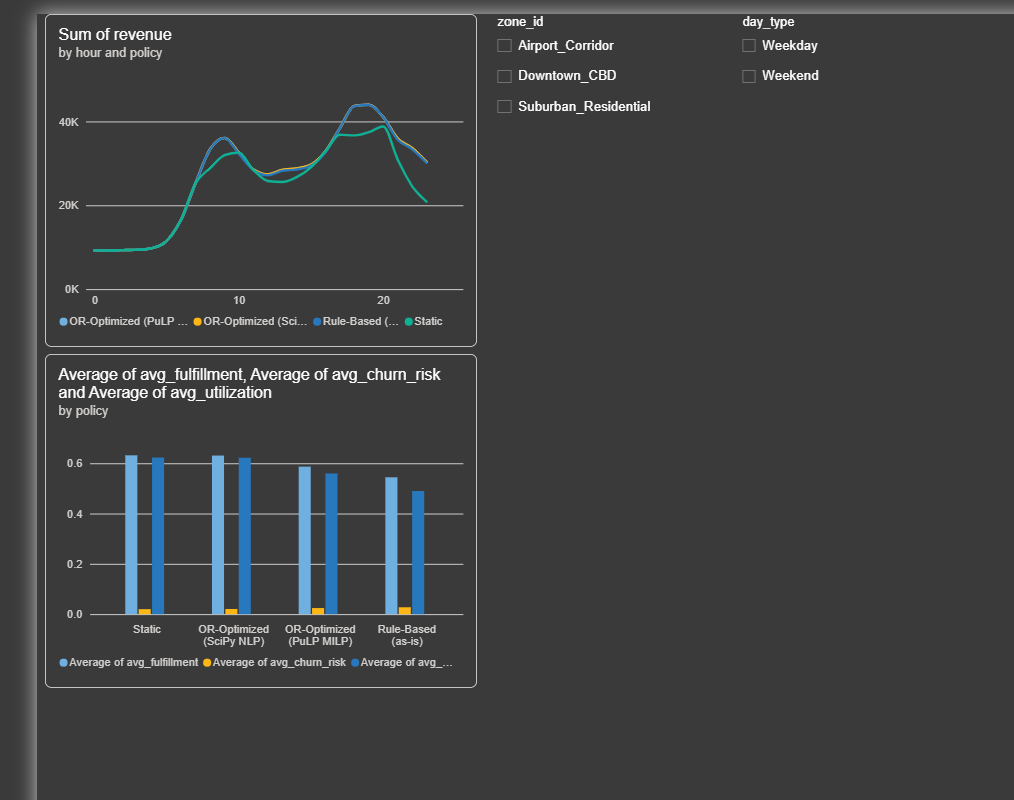

What the dashboard file says about the page in this screenshot:
{"tool":"powerbi","page":{"name":"Policy Comparison","canvas":[1920,1080],"ordinal":3},"visuals":[{"type":"lineChart","fields":{"Category":["phase4_hourly_comparison.hour"],"Series":["phase4_hourly_comparison.policy"],"Y":["Sum(phase4_hourly_comparison.revenue)"]},"box":[10,0,540,416],"z":0},{"type":"slicer","fields":{"Values":["phase4_hourly_comparison.zone_id"]},"box":[568,0,282,184],"z":1000},{"type":"slicer","fields":{"Values":["phase4_hourly_comparison.day_type"]},"box":[872,0,262,208],"z":2000},{"type":"clusteredColumnChart","fields":{"Category":["phase4_aggregate_comparison.policy"],"Y":["Avg(phase4_aggregate_comparison.avg_fulfillment)","Avg(phase4_aggregate_comparison.avg_churn_risk)","Avg(phase4_aggregate_comparison.avg_utilization)"]},"box":[10,426,540,416],"z":3000}]}

Visuals, with their boxes on the page's 1920x1080 design canvas (x1, y1, x2, y2). These are canvas units, not pixel positions in the 1014x800 screenshot, which may show the page scaled, cropped or inside an application window:
lineChart - phase4_hourly_comparison.hour x phase4_hourly_comparison.policy: {"x1": 10, "y1": 0, "x2": 550, "y2": 416}
slicer - phase4_hourly_comparison.zone_id: {"x1": 568, "y1": 0, "x2": 850, "y2": 184}
slicer - phase4_hourly_comparison.day_type: {"x1": 872, "y1": 0, "x2": 1134, "y2": 208}
clusteredColumnChart - phase4_aggregate_comparison.policy x Avg(phase4_aggregate_comparison.avg_fulfillment): {"x1": 10, "y1": 426, "x2": 550, "y2": 842}
